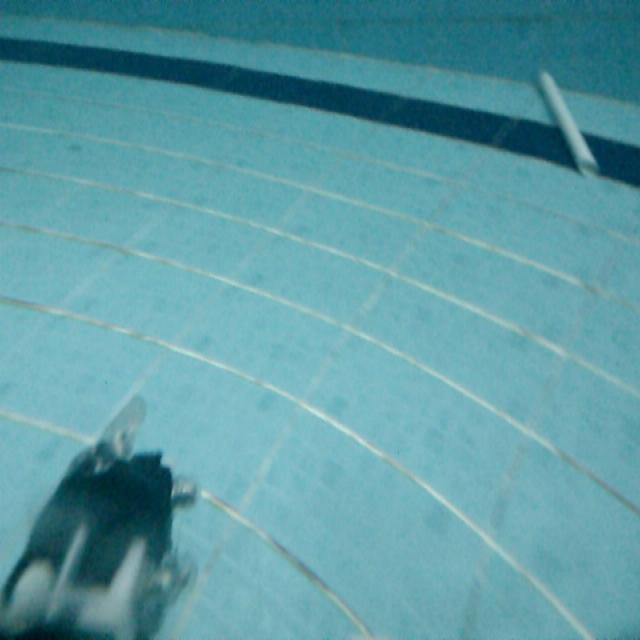Cube: (539, 70, 601, 181)
